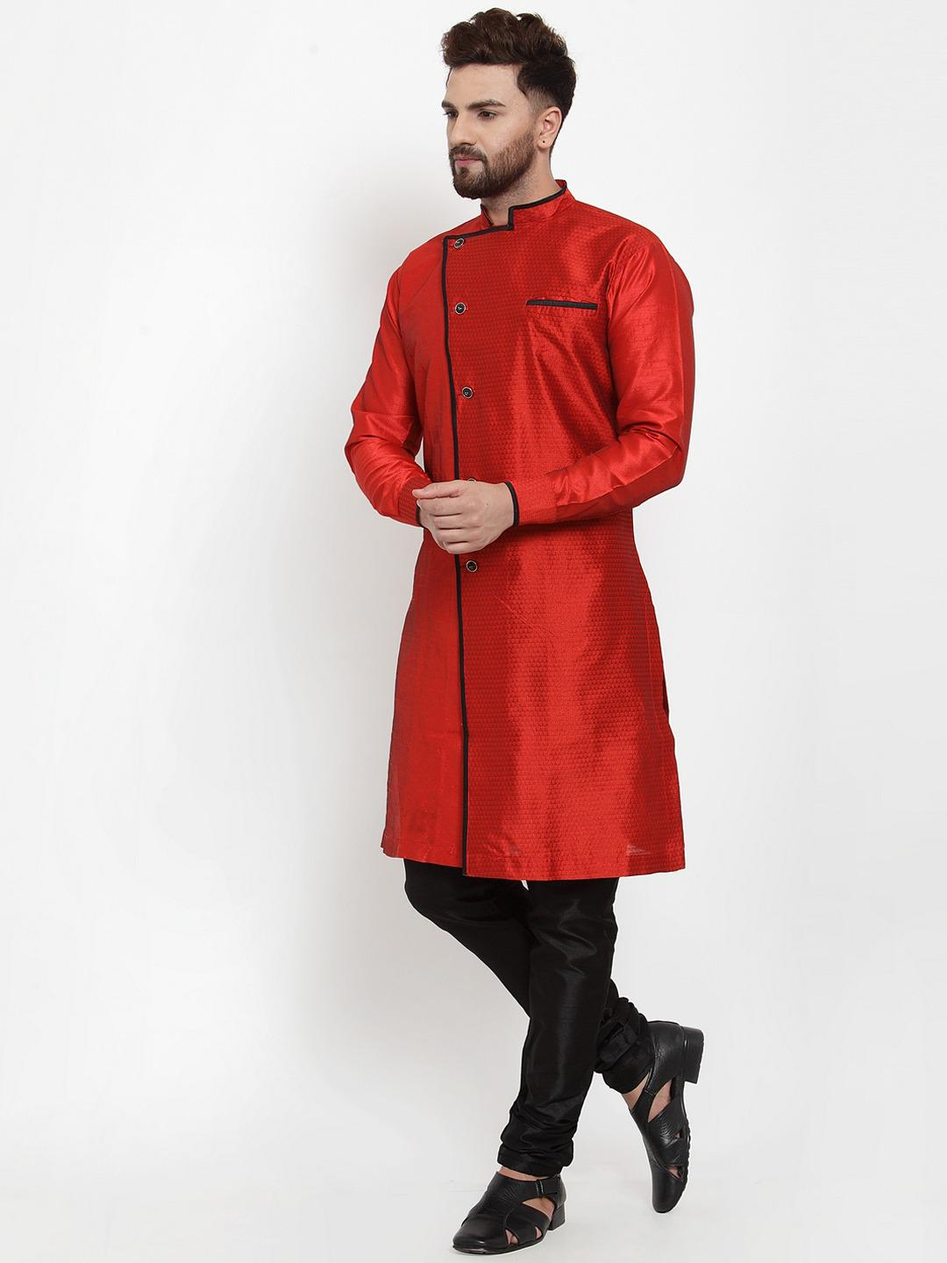Plain Sherwani: (340, 177, 699, 883)
